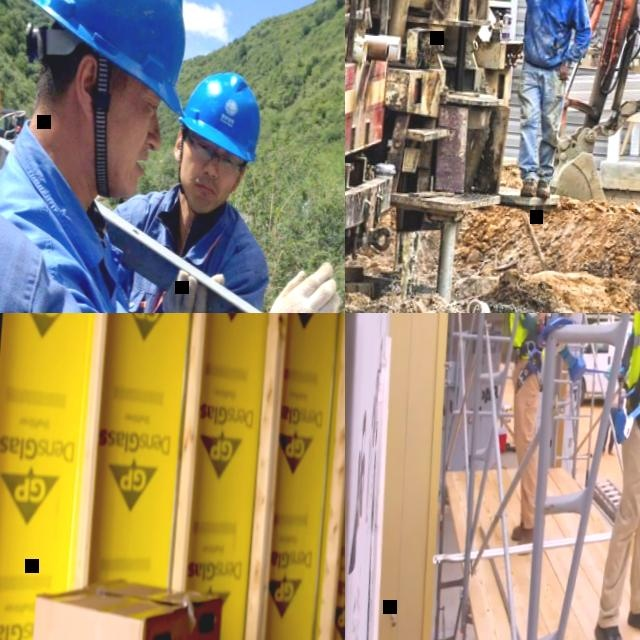Hardhat: (19, 0, 199, 116), (172, 66, 263, 162)
NO-Mask: (93, 115, 158, 205), (178, 168, 230, 216)
NO-Safety Vest: (0, 144, 145, 313), (103, 189, 264, 313), (0, 197, 57, 313), (520, 0, 573, 65)
Person: (0, 0, 345, 313), (67, 59, 287, 313), (0, 198, 222, 313), (470, 0, 599, 197), (488, 313, 568, 557), (586, 313, 640, 640), (558, 0, 628, 47)
Safety Vest: (504, 313, 551, 359)
machinery: (540, 0, 640, 313), (345, 0, 412, 272)
vehicle: (575, 314, 634, 406)
